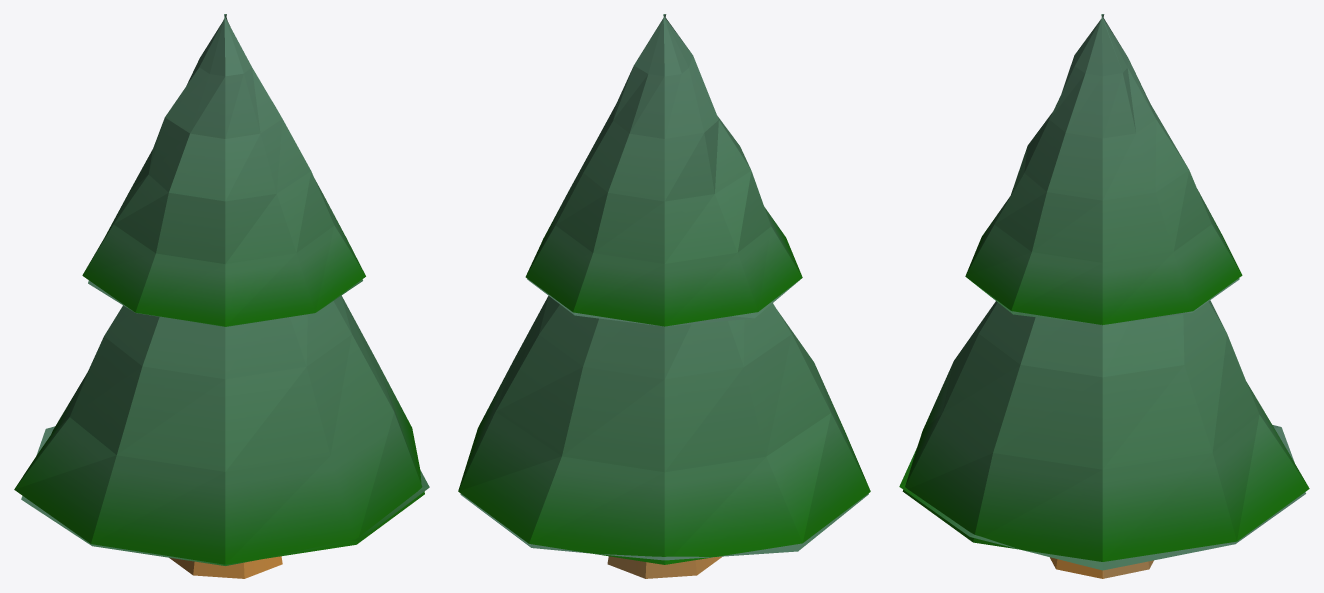
The model's file is tanne.fbx.
3 views of the same model, side by side, from view 1: azimuth 30°, elevation 25°; view 2: azimuth 150°, elevation 25°; view 3: azimuth 270°, elevation 25° (orthographic).
Parts seen in each view (by area): view 1: Kegel; view 2: Kegel; view 3: Kegel.
Boxes of the visible parts, box(x1,y1,x2,y2) form: Kegel: box(14, 14, 429, 578); Kegel: box(458, 14, 870, 578); Kegel: box(899, 14, 1309, 578).
Bounding box in the file's own units: 596 × 852 × 588.
1 material, 1 textured.
